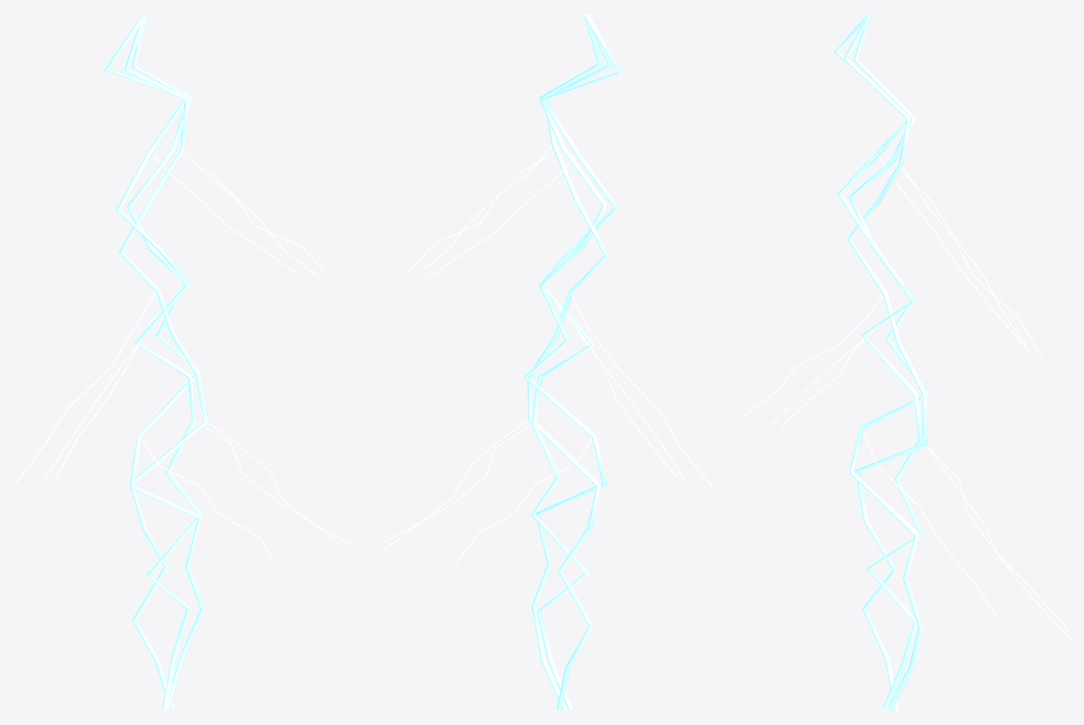
File: blender-lightning.glb
3 views of the same model, side by side, from view 1: azimuth 30°, elevation 25°; view 2: azimuth 150°, elevation 25°; view 3: azimuth 330°, elevation 25° (orthographic).
Parts seen in each view (by area): view 1: Bolt 0 main 1, Bolt 2 main 1, Bolt 1 main 1; view 2: Bolt 1 main 1, Bolt 0 main 1, Bolt 2 main 1; view 3: Bolt 2 main 1, Bolt 0 main 1, Bolt 1 main 1.
Boxes of the visible parts, bbox=[...] form: Bolt 0 main 1: bbox=[103, 14, 203, 710]; Bolt 2 main 1: bbox=[118, 15, 209, 707]; Bolt 1 main 1: bbox=[127, 15, 205, 708]; Bolt 1 main 1: bbox=[523, 14, 607, 710]; Bolt 0 main 1: bbox=[530, 14, 622, 710]; Bolt 2 main 1: bbox=[527, 15, 613, 710]; Bolt 2 main 1: bbox=[842, 14, 927, 710]; Bolt 0 main 1: bbox=[833, 14, 924, 710]; Bolt 1 main 1: bbox=[848, 15, 931, 710].
Bounding box in the file's own units: 241 × 482 × 11.65.
